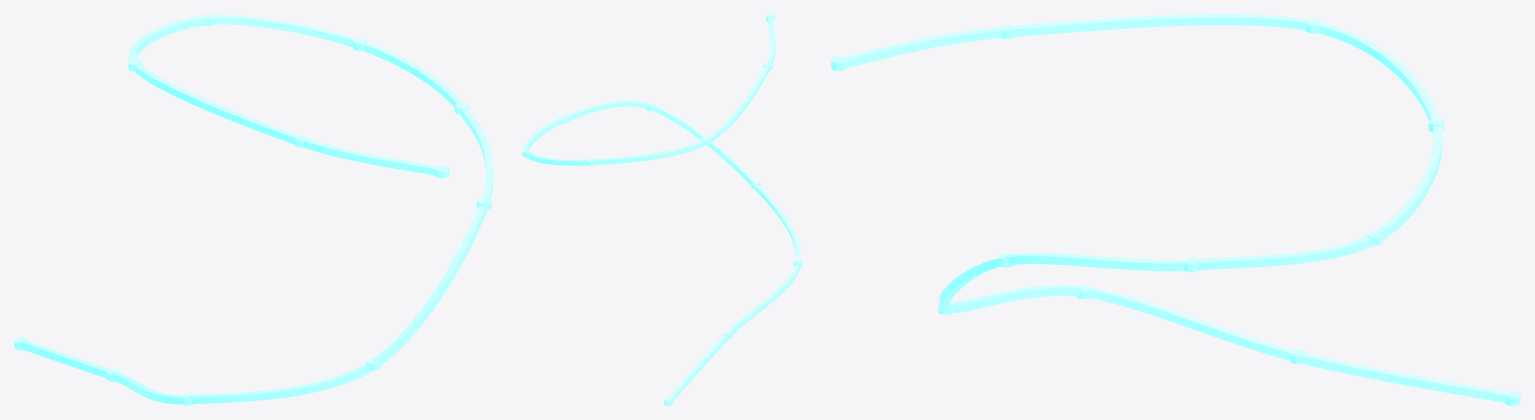
The model's file is hall_ov_rail.glb.
3 views of the same model, side by side, from view 1: azimuth 30°, elevation 25°; view 2: azimuth 150°, elevation 25°; view 3: azimuth 270°, elevation 25° (orthographic). The views are drawn at different scales.
Parts seen in each view (by area): view 1: hall_ov_rail; view 2: hall_ov_rail; view 3: hall_ov_rail.
Part boxes in pixels (x1,y1,x2,y2): hall_ov_rail: [14, 14, 493, 405]; hall_ov_rail: [522, 14, 802, 405]; hall_ov_rail: [831, 14, 1520, 405].
Bounding box in the file's own units: 29.26 × 30.05 × 45.02.
